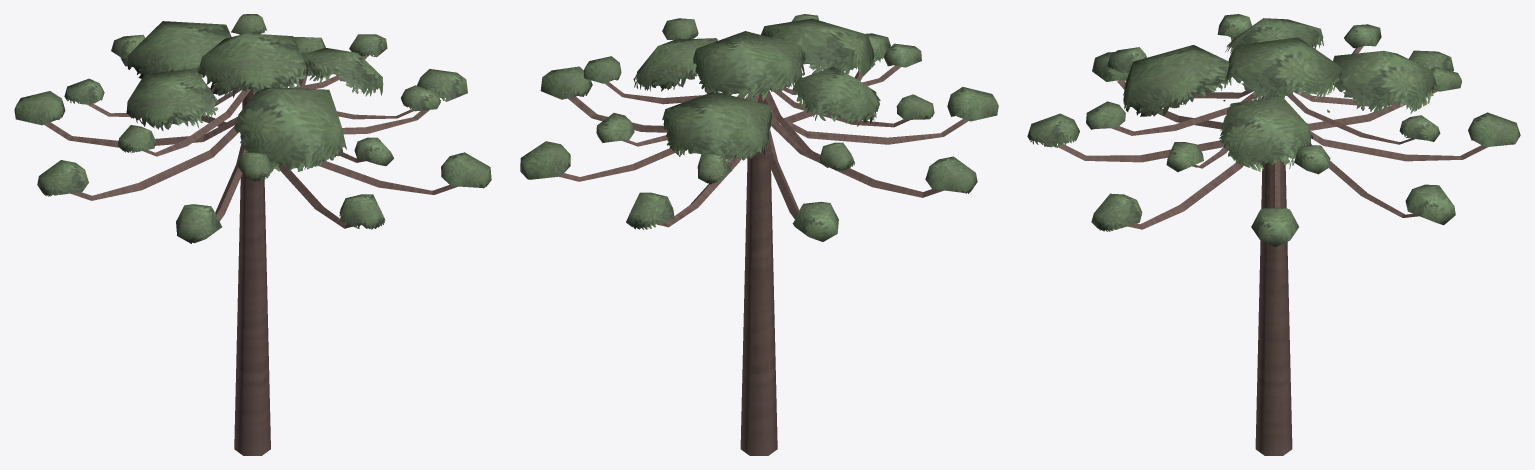
Rendered from ArvoreGrandeAraucaria.fbx.
3 views of the same model, side by side, from view 1: azimuth 30°, elevation 25°; view 2: azimuth 150°, elevation 25°; view 3: azimuth 270°, elevation 25° (orthographic).
Parts seen in each view (by area): view 1: ArvoreGrandeAraucaria; view 2: ArvoreGrandeAraucaria; view 3: ArvoreGrandeAraucaria.
Part boxes in pixels (x1,y1,x2,y2): ArvoreGrandeAraucaria: [14, 14, 491, 455]; ArvoreGrandeAraucaria: [520, 14, 998, 455]; ArvoreGrandeAraucaria: [1027, 14, 1520, 455].
Bounding box in the file's own units: 329 × 298 × 329.
